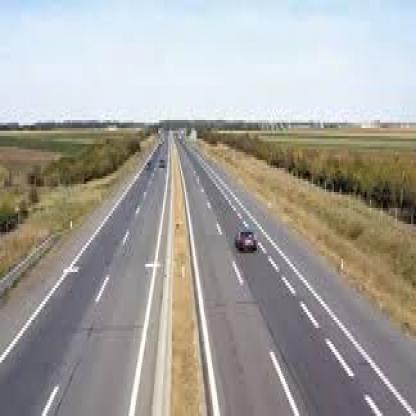car: (232, 219, 262, 262)
